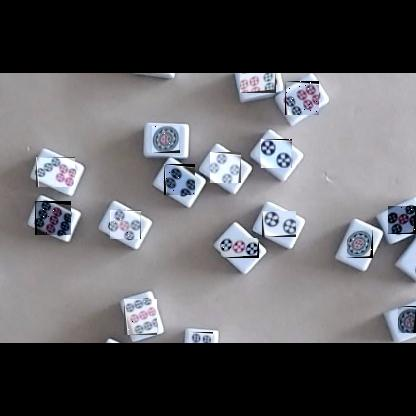1p: (152, 126, 180, 153), (347, 230, 373, 258), (398, 306, 416, 333)
2p: (260, 139, 292, 168), (262, 211, 296, 237)
3p: (221, 238, 259, 258)
4p: (210, 152, 241, 183), (164, 164, 195, 195)
5p: (110, 210, 141, 239), (388, 206, 416, 234)
6p: (285, 81, 319, 115), (240, 73, 276, 93)
7p: (36, 157, 75, 187)
8p: (189, 332, 213, 343)
9p: (35, 201, 71, 235), (124, 299, 157, 335)
